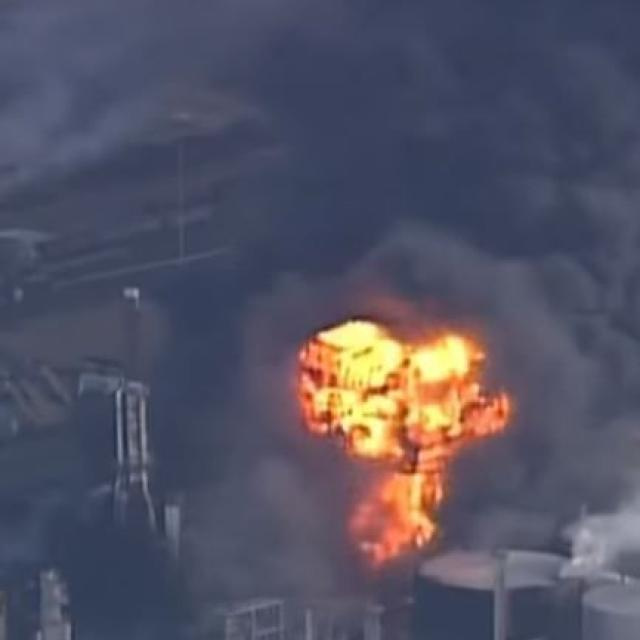Fire: (324, 328, 487, 573)
Smoke: (0, 0, 640, 318), (195, 312, 333, 602), (486, 327, 640, 547)
